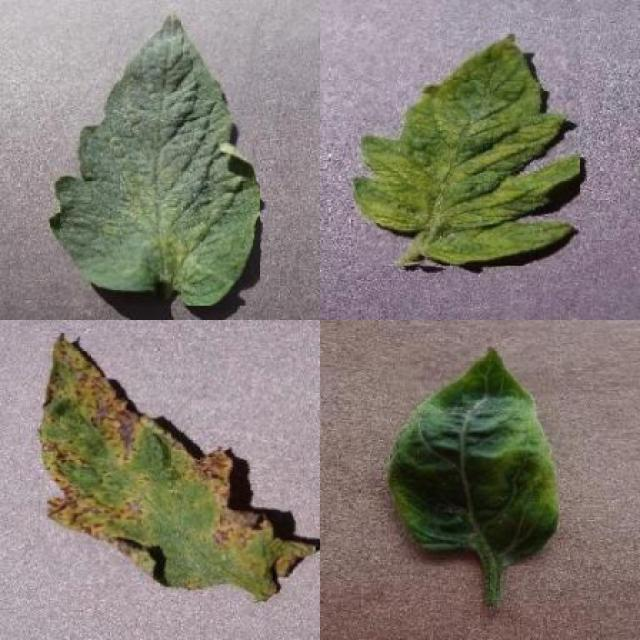Mosaic Virus: (354, 35, 580, 265)
Septoria: (37, 334, 316, 602)
Spider Mites: (50, 13, 260, 306)
Yellow Leaf Curl Virus: (387, 346, 559, 566)
